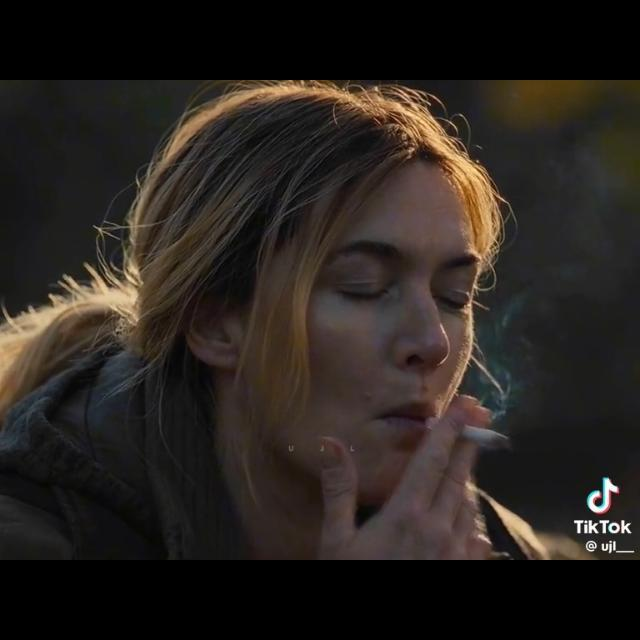rokok: (444, 411, 518, 453)
